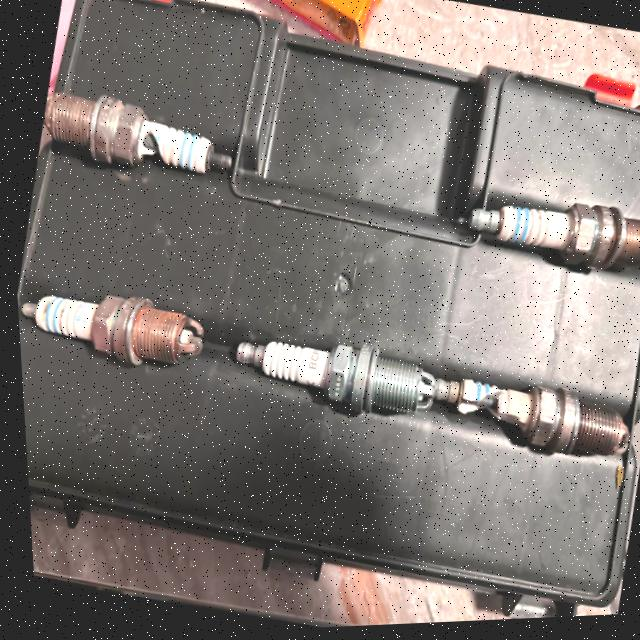damaged_spark-plug: (31, 78, 244, 202), (431, 358, 639, 478)
spark-plug: (219, 307, 454, 436), (13, 265, 212, 383), (455, 175, 640, 293)
